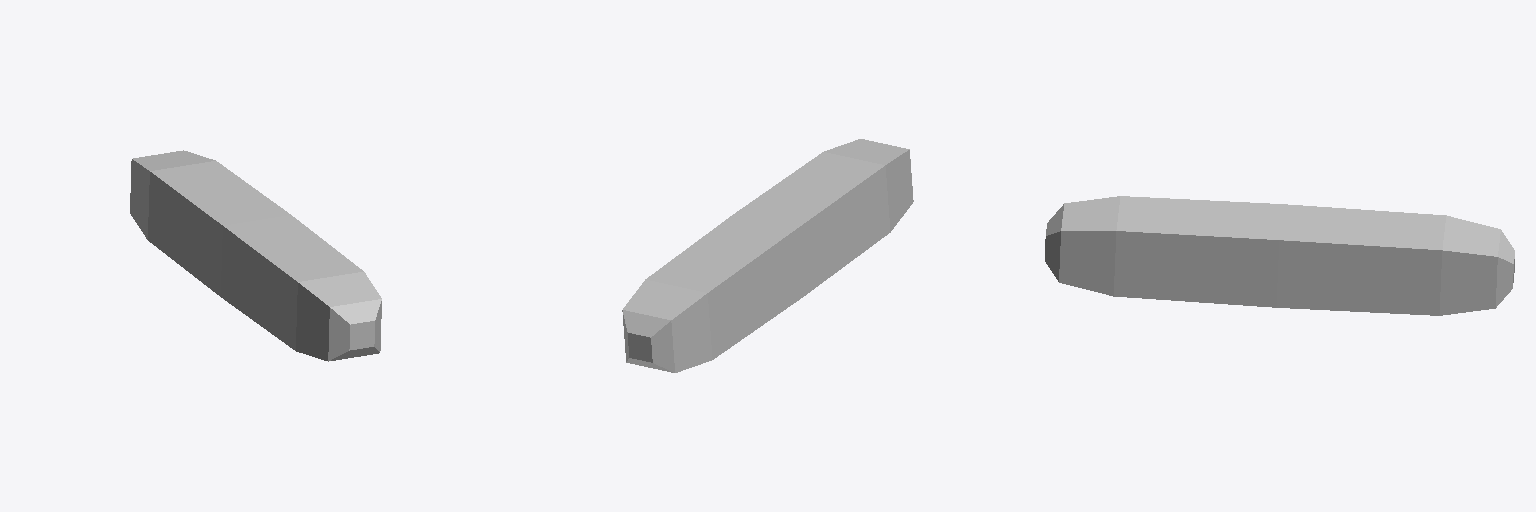
Rendered from upper_left_leg_x_joint.obj.
3 renders of one model, left to right at view 1: azimuth 30°, elevation 25°; view 2: azimuth 150°, elevation 25°; view 3: azimuth 270°, elevation 25°, orthographic.
Parts seen in each view (by area): view 1: ../rami/model/upper_left_leg_x_joint; view 2: ../rami/model/upper_left_leg_x_joint; view 3: ../rami/model/upper_left_leg_x_joint.
Part boxes in pixels (x1,y1,x2,y2): ../rami/model/upper_left_leg_x_joint: (130, 150, 381, 361); ../rami/model/upper_left_leg_x_joint: (622, 139, 913, 372); ../rami/model/upper_left_leg_x_joint: (1045, 196, 1514, 315).
Size of the model in its own units: 0.0976 by 0.0935 by 0.4809.